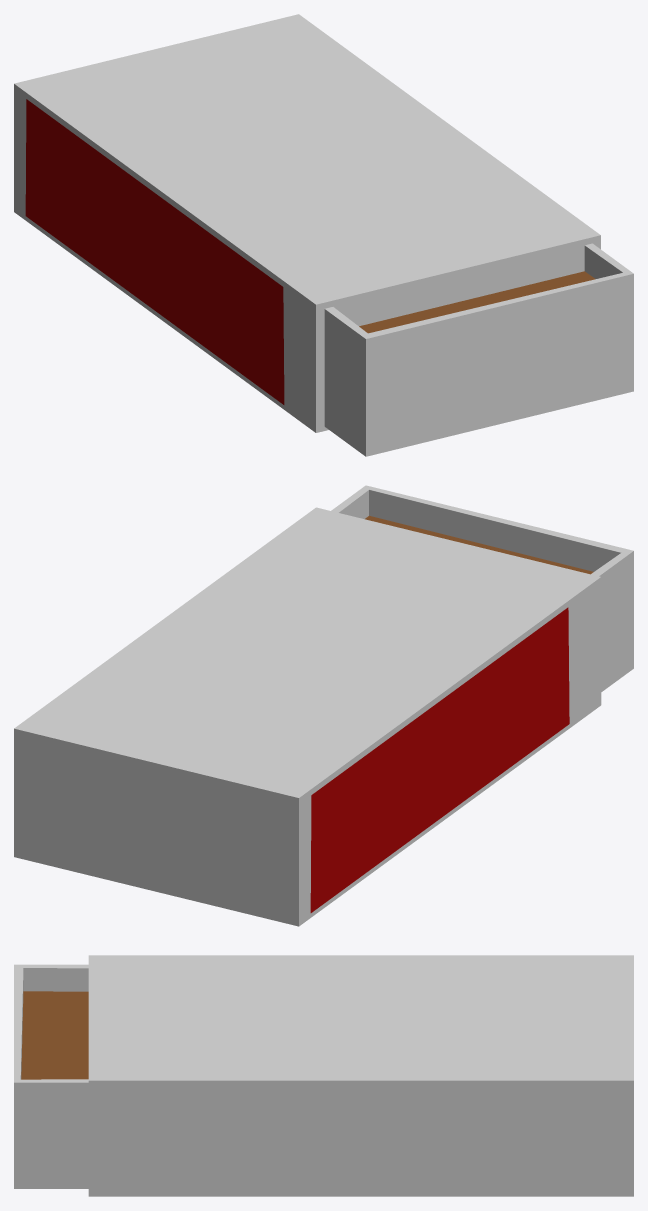
Rendered from matchbox.fbx.
3 renders of one model, top to bottom at view 1: azimuth 30°, elevation 25°; view 2: azimuth 150°, elevation 25°; view 3: azimuth 270°, elevation 25°, orthographic. The views are drawn at different scales.
Visible parts, largest first — view 1: pCube1; view 2: pCube1; view 3: pCube1.
Boxes of the visible parts, box(x1,y1,x2,y2) form: pCube1: box(14, 14, 633, 456); pCube1: box(14, 485, 633, 926); pCube1: box(14, 955, 633, 1196).
Size of the model in its own units: 0.5446 by 0.2346 by 1.14.
